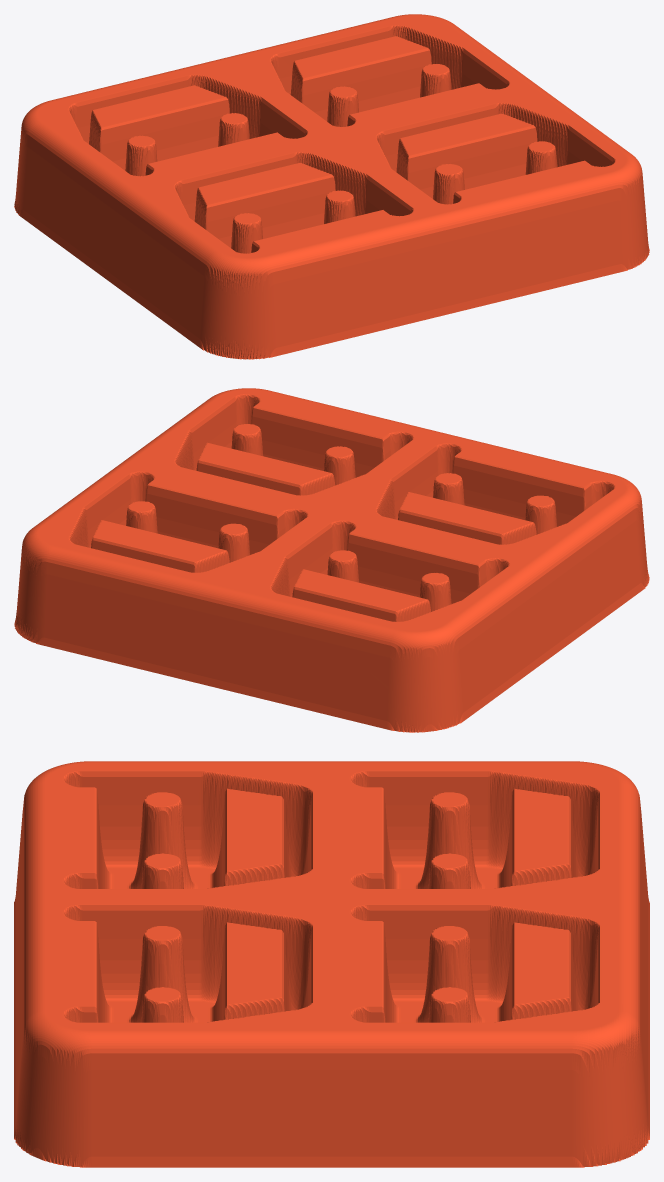
File: mold.glb
3 renders of one model, top to bottom at view 1: azimuth 30°, elevation 25°; view 2: azimuth 150°, elevation 25°; view 3: azimuth 270°, elevation 25°, orthographic. The views are drawn at different scales.
Visible parts, largest first — view 1: geometry_0; view 2: geometry_0; view 3: geometry_0.
Part boxes in pixels (x1,y1,x2,y2): geometry_0: [14, 14, 649, 359]; geometry_0: [14, 388, 649, 732]; geometry_0: [14, 761, 649, 1167].
Size of the model in its own units: 0.0808 by 0.0159 by 0.074.
